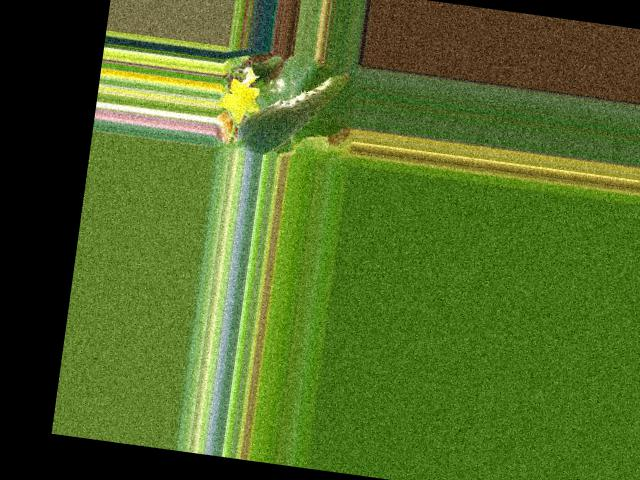cucumber: (234, 59, 349, 165)
